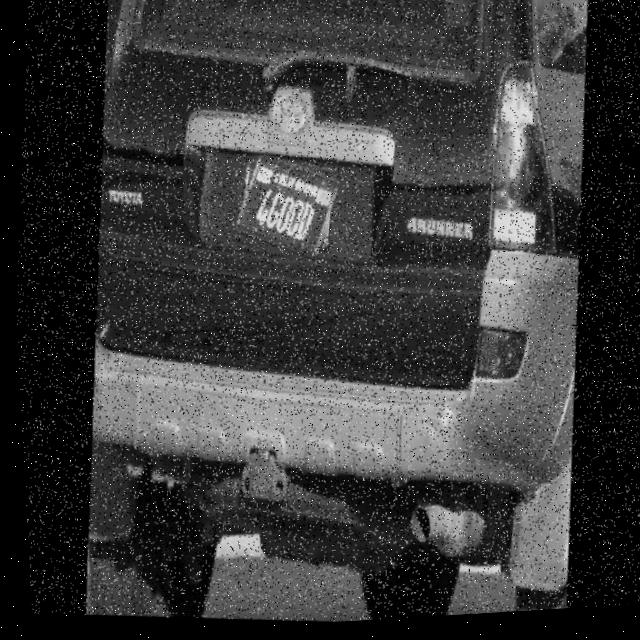LicensePlate: (227, 154, 339, 271)
